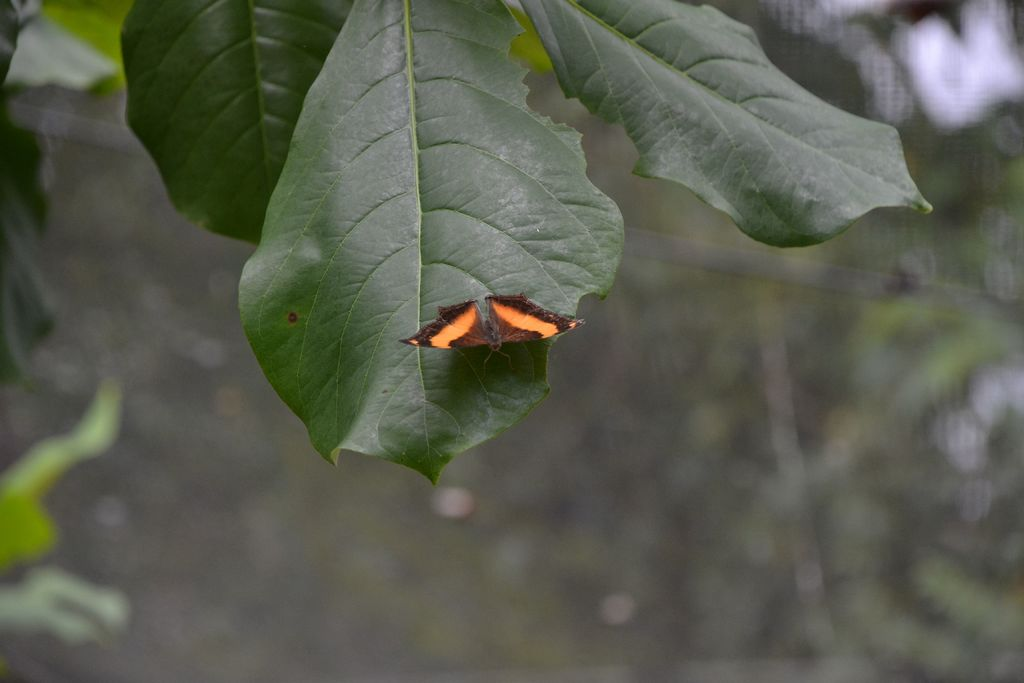Butterfly: (401, 286, 576, 364)
